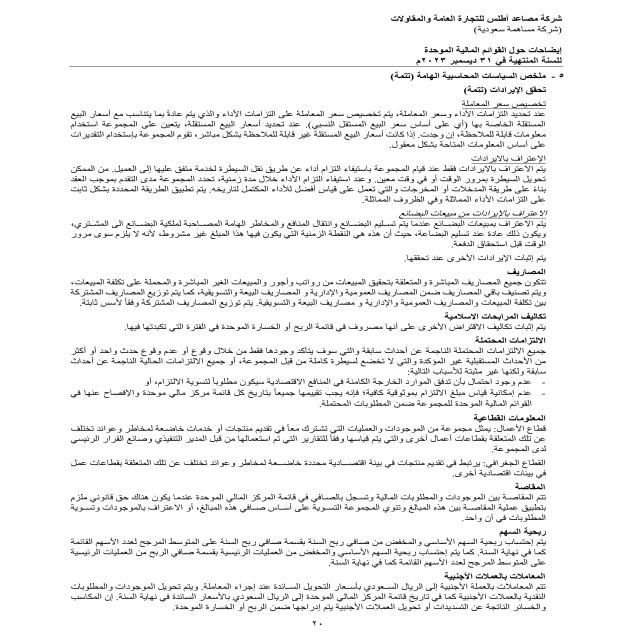notes: (409, 45, 566, 53)
